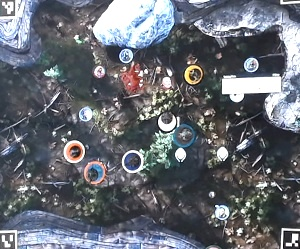blue: (122, 151, 145, 174)
brown_turquoise: (172, 124, 195, 147)
giant_red_octopus: (117, 62, 143, 92)
light_blue_orange: (83, 160, 106, 183)
white: (155, 110, 178, 133)
yellow_night_blue: (178, 61, 205, 87), (62, 140, 85, 163)
